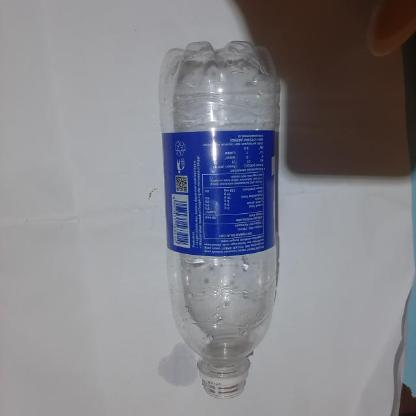Plastic Bottle: (124, 10, 318, 402)
